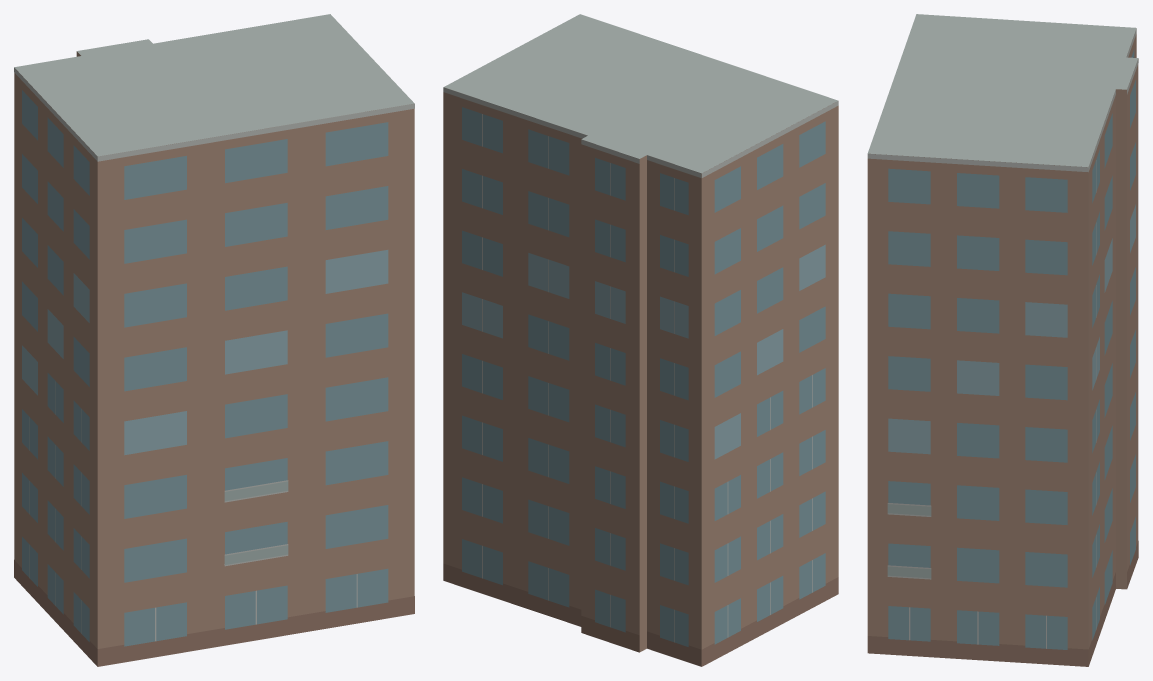
Rendered from survey-upis-32508015.glb.
3 views of the same model, side by side, from view 1: azimuth 30°, elevation 25°; view 2: azimuth 150°, elevation 25°; view 3: azimuth 270°, elevation 25° (orthographic). The views are drawn at different scales.
Parts seen in each view (by area): view 1: survey-upis-32508015.tmp; view 2: survey-upis-32508015.tmp; view 3: survey-upis-32508015.tmp.
Boxes of the visible parts, x1,y1,x2,y2 form: survey-upis-32508015.tmp: [14, 14, 414, 666]; survey-upis-32508015.tmp: [443, 14, 838, 666]; survey-upis-32508015.tmp: [867, 14, 1138, 666].
Bounding box in the file's own units: 16.05 × 24.4 × 12.
